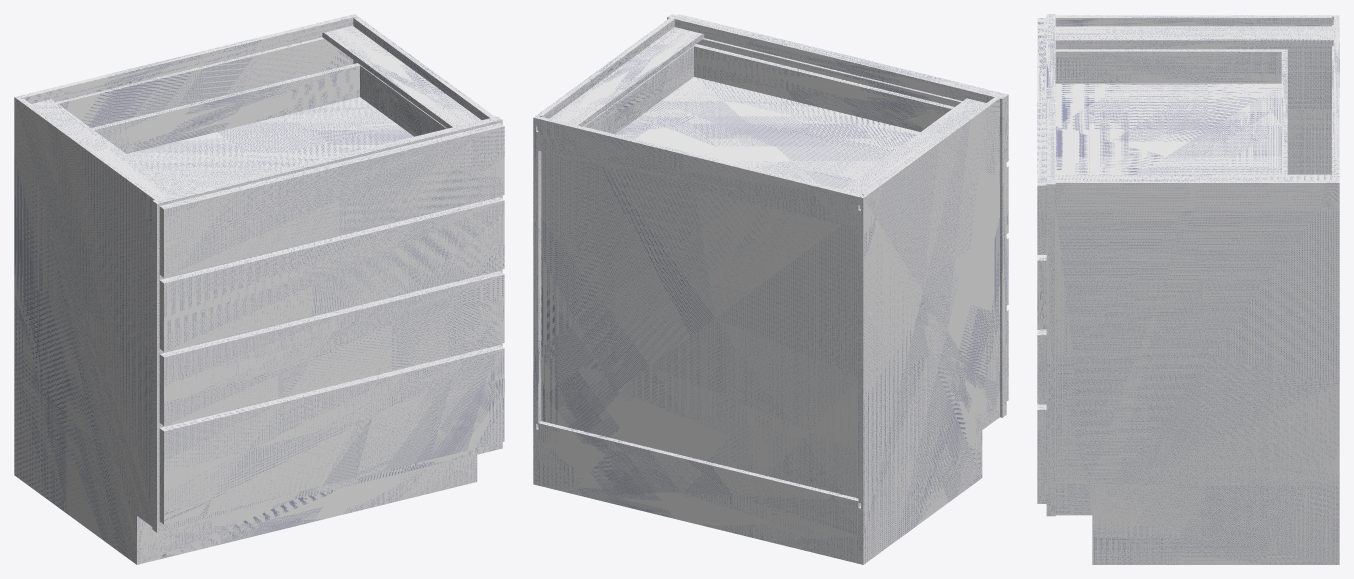
3 renders of one model, left to right at view 1: azimuth 30°, elevation 25°; view 2: azimuth 150°, elevation 25°; view 3: azimuth 270°, elevation 25°, orthographic. The views are drawn at different scales.
Parts seen in each view (by area): view 1: PANEL_LEFT, DRAWER_4_PANEL, DRAWER_1_PANEL, DRAWER_3_PANEL, DRAWER_2_PANEL, DRAWER_1_BOX_BOTTOM, PANEL_KICK, VENEER_BACK, DRAWER_1_BOX_BACK, PANEL_BACK_TOP, BRACING_RIGHT, STILE_LEFT (+5 smaller); view 2: VENEER_BACK, PANEL_LEFT, PANEL_BACK_BOTTOM, DRAWER_1_BOX_BOTTOM, PANEL_BACK_TOP, DRAWER_1_BOX_FRONT, STILE_TOP, PANEL_RIGHT, BRACING_RIGHT, DRAWER_1_BOX_RIGHT, BRACING_LEFT, STILE_LEFT (+1 smaller); view 3: PANEL_RIGHT, DRAWER_1_BOX_BOTTOM, PANEL_LEFT, DRAWER_1_BOX_LEFT, BRACING_LEFT, STILE_RIGHT, DRAWER_1_PANEL, BRACING_RIGHT, STILE_TOP, PANEL_BACK_TOP, DRAWER_4_PANEL, DRAWER_1_BOX_BACK (+2 smaller).
Boxes of the visible parts, left/top/right/bottom form: PANEL_LEFT: left=14, top=96, right=161, bottom=564; DRAWER_4_PANEL: left=159, top=345, right=504, bottom=524; DRAWER_1_PANEL: left=159, top=123, right=504, bottom=277; DRAWER_3_PANEL: left=159, top=271, right=504, bottom=425; DRAWER_2_PANEL: left=159, top=197, right=504, bottom=351; DRAWER_1_BOX_BOTTOM: left=127, top=97, right=413, bottom=193; PANEL_KICK: left=142, top=456, right=471, bottom=563; VENEER_BACK: left=57, top=38, right=353, bottom=127; DRAWER_1_BOX_BACK: left=91, top=63, right=360, bottom=153; PANEL_BACK_TOP: left=20, top=15, right=352, bottom=103; BRACING_RIGHT: left=322, top=25, right=481, bottom=128; STILE_LEFT: left=152, top=197, right=172, bottom=532; VENEER_BACK: left=541, top=151, right=858, bottom=498; PANEL_LEFT: left=858, top=96, right=1000, bottom=564; PANEL_BACK_BOTTOM: left=538, top=421, right=860, bottom=563; DRAWER_1_BOX_BOTTOM: left=615, top=77, right=920, bottom=189; PANEL_BACK_TOP: left=538, top=117, right=860, bottom=228; DRAWER_1_BOX_FRONT: left=694, top=44, right=954, bottom=131; STILE_TOP: left=682, top=18, right=990, bottom=104; PANEL_RIGHT: left=533, top=17, right=675, bottom=485; BRACING_RIGHT: left=537, top=27, right=704, bottom=130; DRAWER_1_BOX_RIGHT: left=583, top=46, right=693, bottom=134; BRACING_LEFT: left=842, top=98, right=986, bottom=209; STILE_LEFT: left=987, top=92, right=1006, bottom=417; PANEL_RIGHT: left=1052, top=180, right=1339, bottom=564; DRAWER_1_BOX_BOTTOM: left=1055, top=83, right=1281, bottom=174; PANEL_LEFT: left=1052, top=15, right=1339, bottom=174; DRAWER_1_BOX_LEFT: left=1055, top=49, right=1287, bottom=83; BRACING_LEFT: left=1055, top=25, right=1333, bottom=45; STILE_RIGHT: left=1046, top=176, right=1055, bottom=516; DRAWER_1_PANEL: left=1037, top=18, right=1046, bottom=254; BRACING_RIGHT: left=1055, top=174, right=1333, bottom=181; STILE_TOP: left=1046, top=21, right=1055, bottom=176; PANEL_BACK_TOP: left=1333, top=18, right=1339, bottom=180; DRAWER_4_PANEL: left=1037, top=404, right=1046, bottom=503; DRAWER_1_BOX_BACK: left=1281, top=50, right=1287, bottom=174.
Size of the model in its own units: 33 by 24.75 by 34.5.
